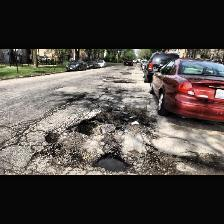pothole: (66, 116, 108, 138), (92, 152, 130, 172), (44, 132, 61, 142), (130, 120, 140, 126), (113, 80, 130, 82)
